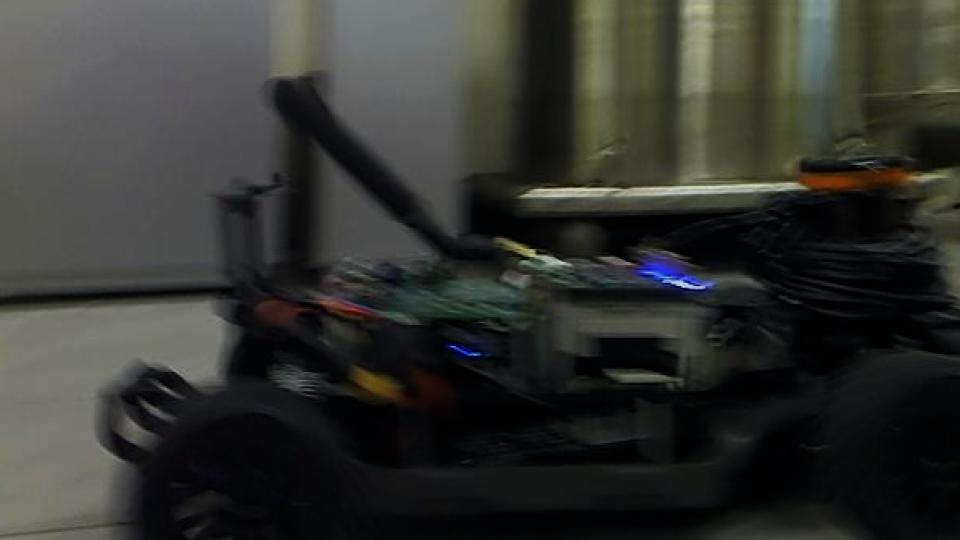car: (94, 69, 960, 540)
